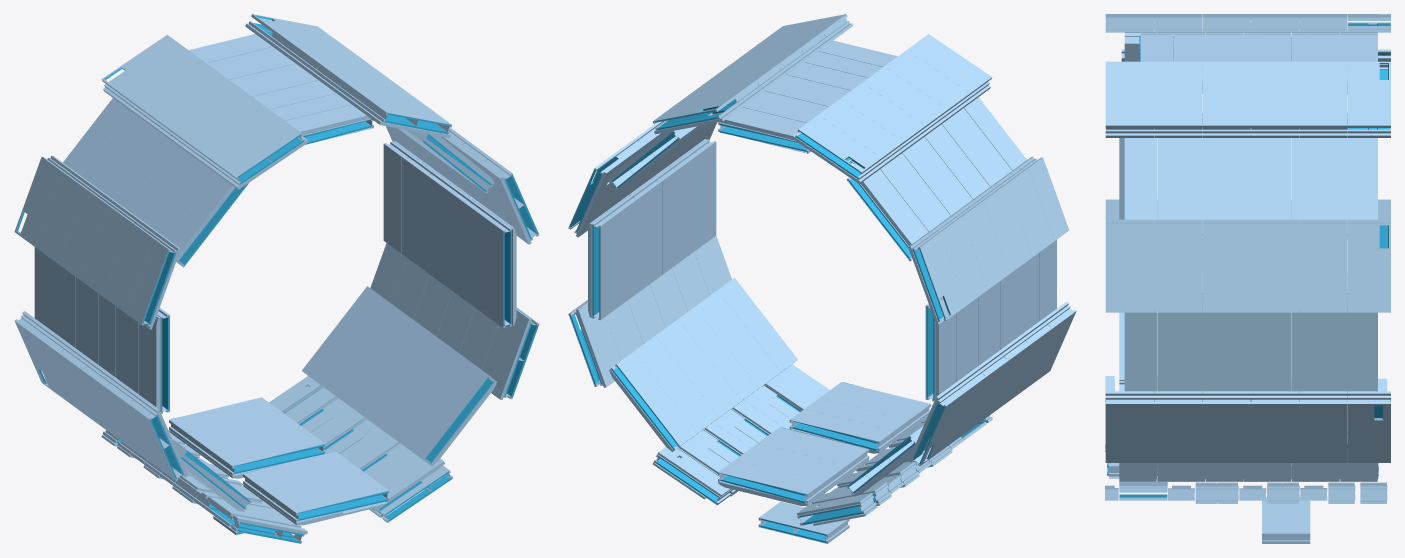
The model's file is Muon-Barrel-Outer-cut1.glb.
3 renders of one model, left to right at view 1: azimuth 30°, elevation 25°; view 2: azimuth 150°, elevation 25°; view 3: azimuth 270°, elevation 25°, orthographic. The views are drawn at different scales.
Parts seen in each view (by area): view 1: null; view 2: null; view 3: null.
Boxes of the visible parts, x1=… form: null: x1=14, y1=14, x2=539, y2=543; null: x1=568, y1=14, x2=1076, y2=543; null: x1=1105, y1=14, x2=1390, y2=543.
Size of the model in its own units: 21.5 by 24.1 by 12.86.
